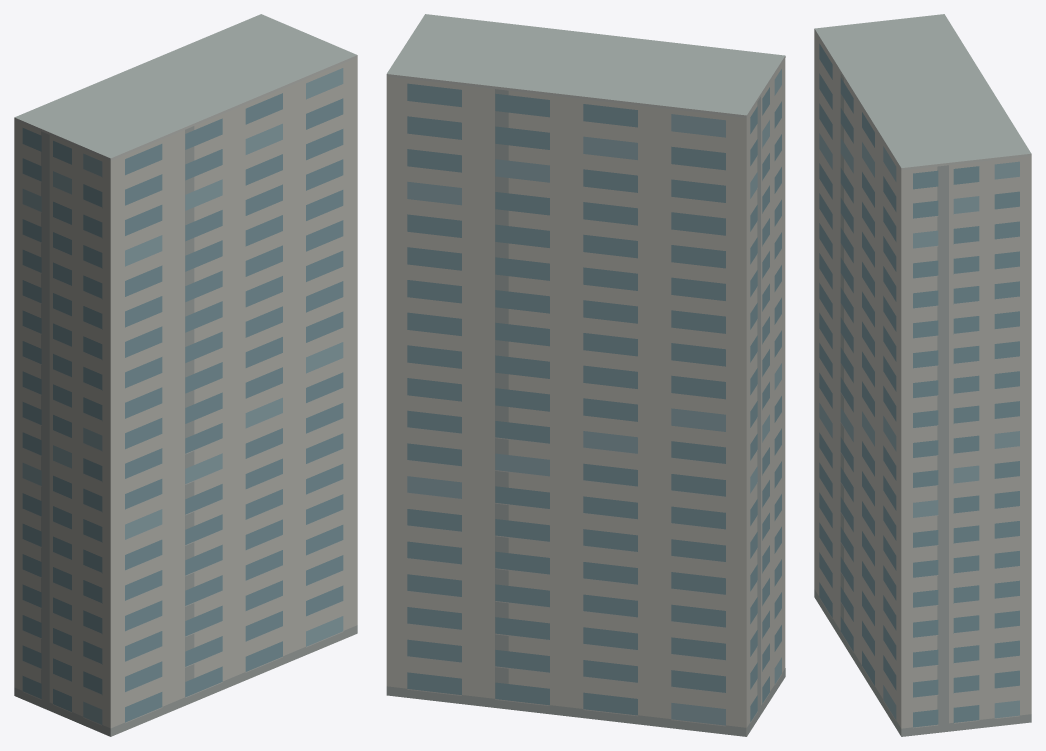
File: residential-baf96e32-10c7-4673-9b7d-af0687f7fb5f.glb
3 views of the same model, side by side, from view 1: azimuth 30°, elevation 25°; view 2: azimuth 150°, elevation 25°; view 3: azimuth 270°, elevation 25° (orthographic). The views are drawn at different scales.
Parts seen in each view (by area): view 1: residential-baf96e32-10c7-4673-9b7d-af0687f7fb5f.tmp; view 2: residential-baf96e32-10c7-4673-9b7d-af0687f7fb5f.tmp; view 3: residential-baf96e32-10c7-4673-9b7d-af0687f7fb5f.tmp.
Part boxes in pixels (x1,y1,x2,y2): residential-baf96e32-10c7-4673-9b7d-af0687f7fb5f.tmp: (14,14,357,736); residential-baf96e32-10c7-4673-9b7d-af0687f7fb5f.tmp: (386,14,785,736); residential-baf96e32-10c7-4673-9b7d-af0687f7fb5f.tmp: (814,14,1031,736).
Bounding box in the file's own units: 33.72 × 58 × 20.07.
